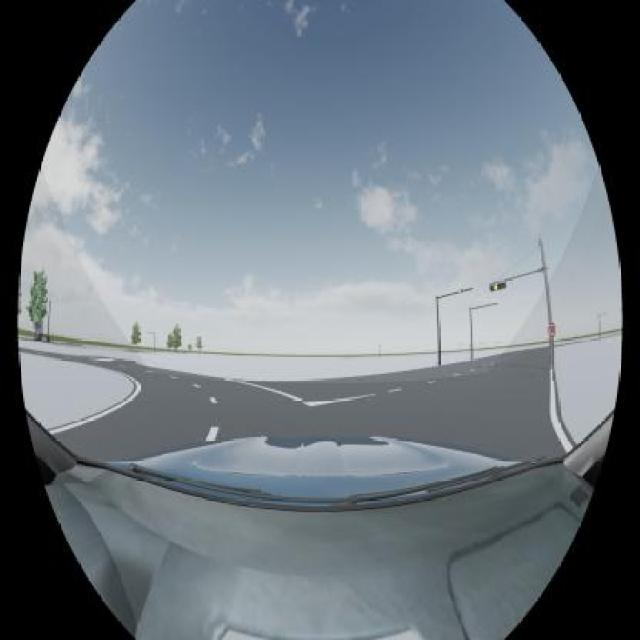forb_speed_over_100: (548, 322, 555, 339)
